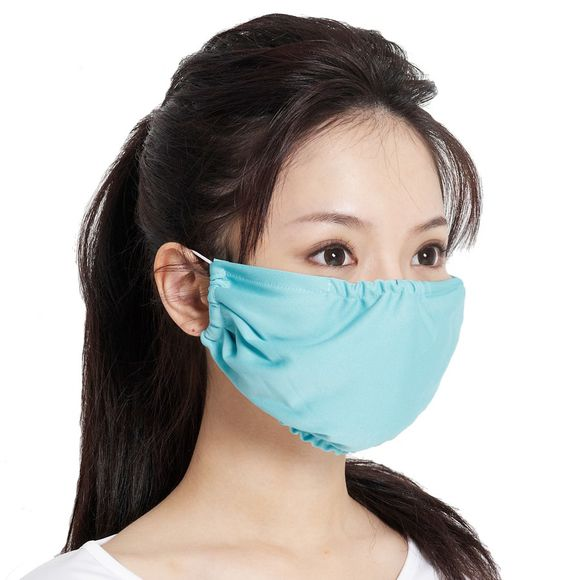face_mask: (229, 120, 459, 439)
